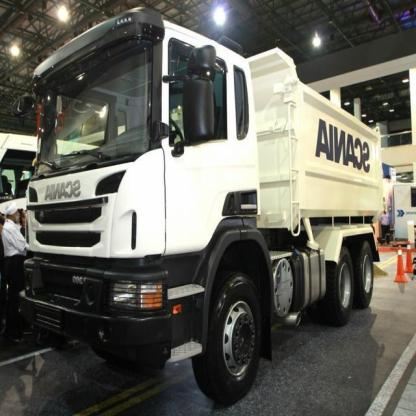truck: (21, 5, 386, 410)
